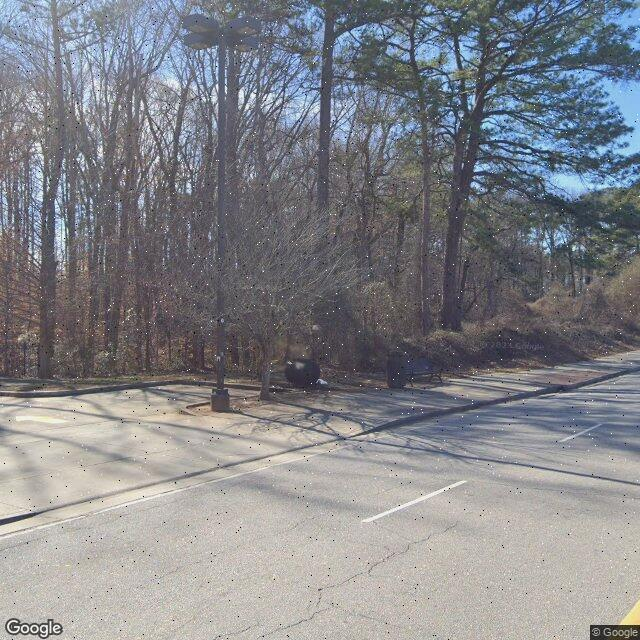seating: (404, 359, 444, 388)
trash_can: (386, 352, 407, 390), (212, 386, 230, 412)
